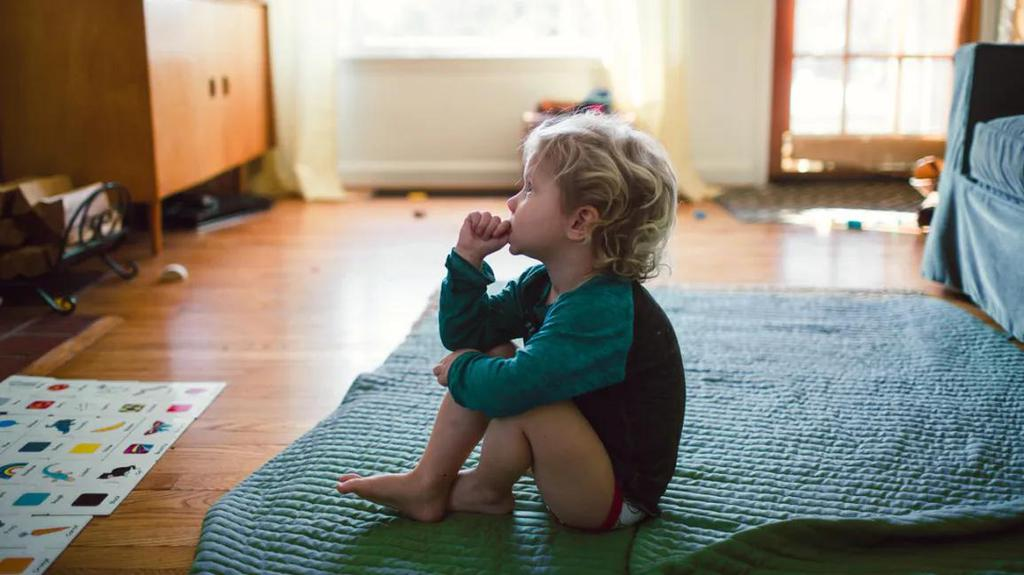child: (325, 113, 720, 538)
